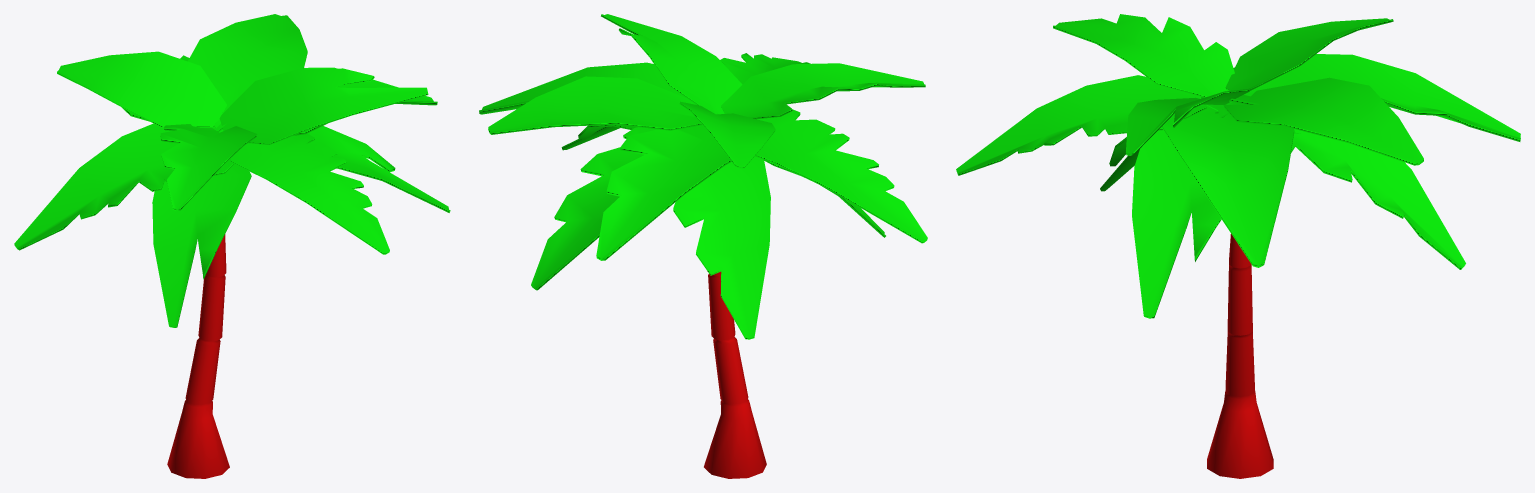
Rendered from palm tree 1 low.fbx.
The picture shows the model from 3 angles, left to right: view 1: azimuth 30°, elevation 25°; view 2: azimuth 150°, elevation 25°; view 3: azimuth 270°, elevation 25°; orthographic projection. The views are drawn at different scales.
Parts seen in each view (by area): view 1: palm_tree_1_low; view 2: palm_tree_1_low; view 3: palm_tree_1_low.
Boxes of the visible parts, box(x1,y1,x2,y2) form: palm_tree_1_low: box(14, 14, 450, 478); palm_tree_1_low: box(479, 14, 927, 478); palm_tree_1_low: box(956, 14, 1520, 478).
Size of the model in its own units: 207 by 176 by 211.
